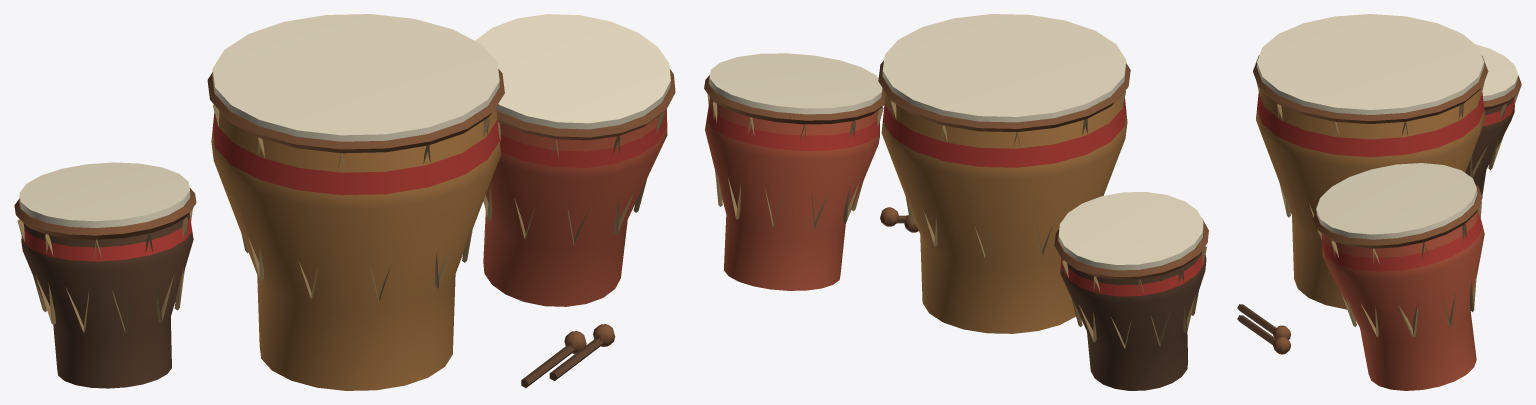
Rendered from deco_drum_set.fbx.
The picture shows the model from 3 angles, left to right: view 1: azimuth 30°, elevation 25°; view 2: azimuth 150°, elevation 25°; view 3: azimuth 270°, elevation 25°; orthographic projection. The views are drawn at different scales.
Parts seen in each view (by area): view 1: DrumSet_Drum1, DrumSet_Drum2, DrumSet_Drum3, DrumSet_Beaters; view 2: DrumSet_Drum1, DrumSet_Drum2, DrumSet_Drum3, DrumSet_Beaters; view 3: DrumSet_Drum1, DrumSet_Drum2, DrumSet_Drum3, DrumSet_Beaters.
Boxes of the visible parts, <box> form: DrumSet_Drum1: <box>207,14,504,390</box>; DrumSet_Drum2: <box>475,14,675,306</box>; DrumSet_Drum3: <box>14,162,196,388</box>; DrumSet_Beaters: <box>521,324,615,387</box>; DrumSet_Drum1: <box>878,14,1130,333</box>; DrumSet_Drum2: <box>704,53,885,290</box>; DrumSet_Drum3: <box>1054,192,1208,390</box>; DrumSet_Beaters: <box>880,207,918,232</box>; DrumSet_Drum1: <box>1253,14,1488,309</box>; DrumSet_Drum2: <box>1313,163,1484,390</box>; DrumSet_Drum3: <box>1465,44,1521,201</box>; DrumSet_Beaters: <box>1237,304,1290,354</box>.
Bounding box in the file's own units: 211 × 95.42 × 109.
